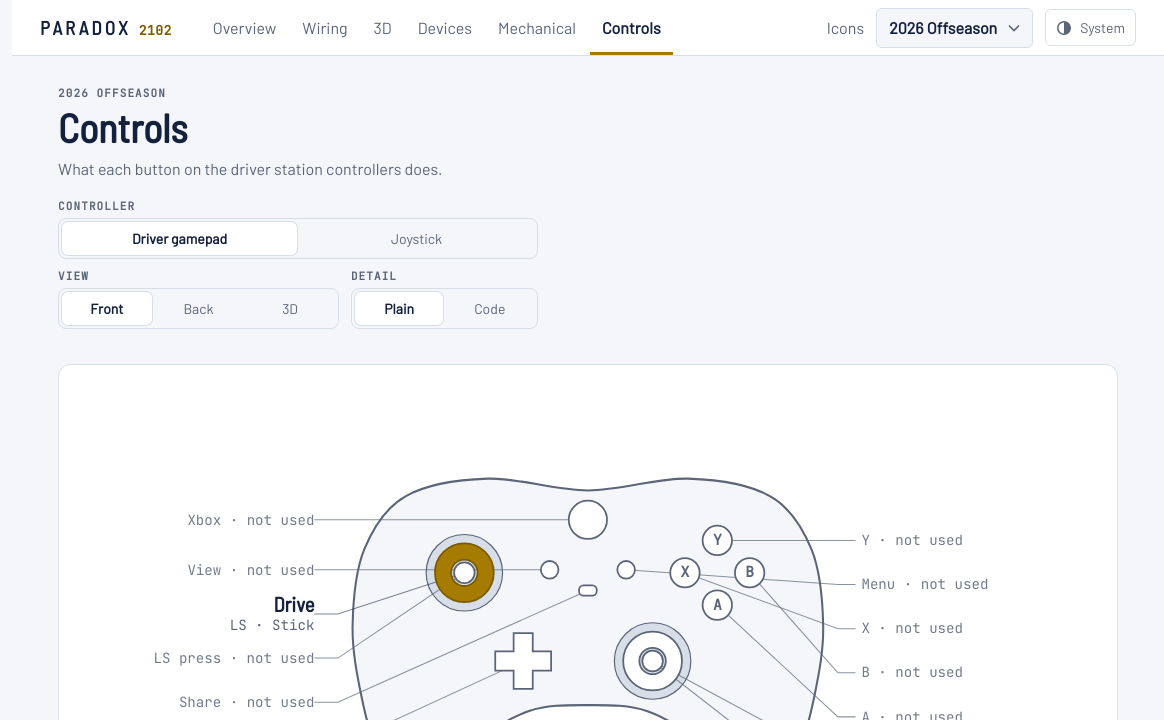
Test: switching controller drops the selected input
Click the radio button labelled "Joystick" at point(417, 238), box [391,230,442,247]
(page scrolled)
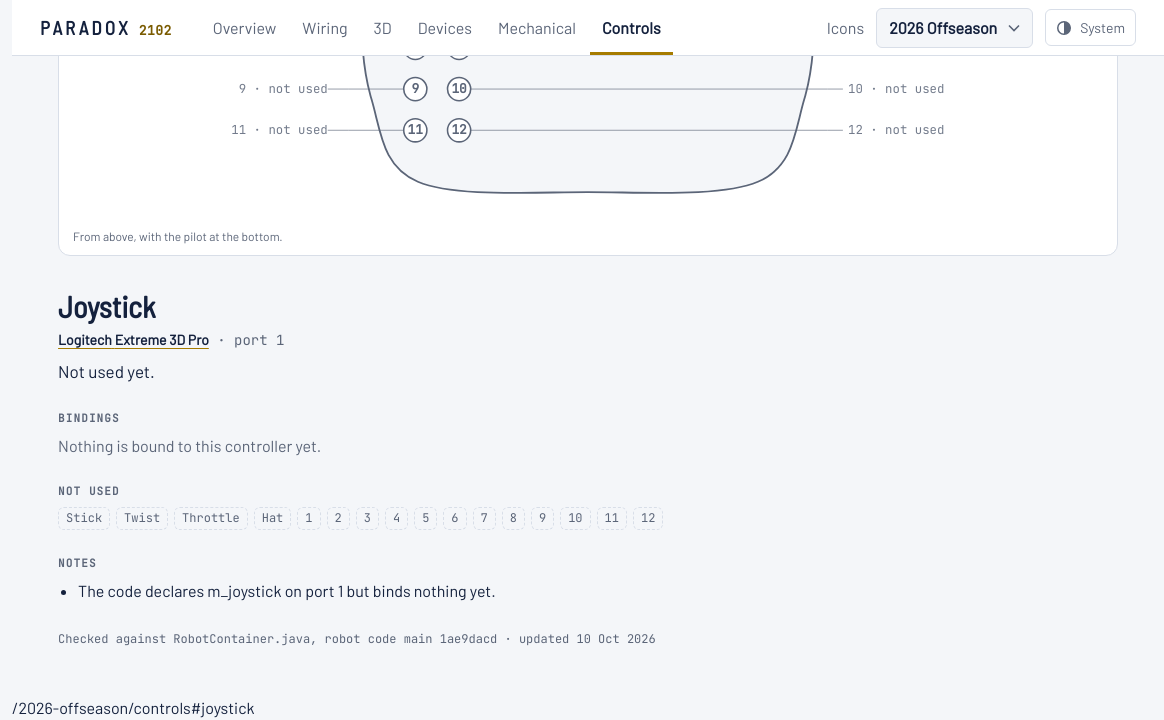
Now the text with test id "where" reads "/2026-offseason/controls#joystick", box [12,698,254,717]
